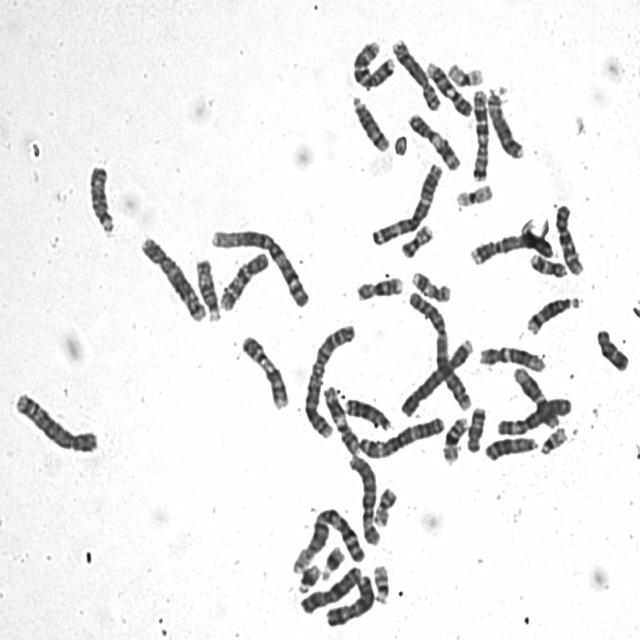A1: (205, 222, 312, 310), (287, 502, 366, 576)
A2: (404, 285, 474, 412), (299, 317, 358, 440)
A3: (368, 157, 444, 246), (353, 410, 446, 460)
B4: (396, 333, 475, 418), (465, 228, 558, 270)
B5: (136, 229, 208, 324), (9, 386, 100, 454)
C10: (214, 245, 271, 312), (550, 198, 586, 277)
C11: (403, 106, 463, 172), (319, 380, 361, 457)
C12: (509, 360, 561, 430), (474, 339, 547, 373)
C6: (344, 449, 382, 546), (492, 392, 574, 436)
C7: (347, 34, 397, 90), (468, 82, 490, 184)
C8: (388, 33, 442, 112), (482, 84, 526, 160)
C9: (236, 328, 291, 411), (421, 56, 474, 117)
D13: (340, 392, 392, 432), (480, 431, 540, 462)
D14: (348, 90, 392, 154), (522, 290, 583, 335)
D15: (83, 158, 117, 236), (191, 252, 222, 323)
E16: (438, 411, 470, 464), (352, 270, 405, 302)
E17: (407, 265, 453, 303), (525, 248, 569, 279)
E18: (592, 326, 632, 376), (463, 401, 488, 453)
F19: (450, 177, 496, 208), (443, 56, 486, 88)
F20: (396, 218, 436, 259), (369, 481, 399, 528)
G21: (317, 540, 346, 582), (294, 558, 322, 594)
G22: (536, 421, 570, 456), (368, 559, 392, 606)
X: (296, 560, 363, 616), (321, 568, 376, 629)
